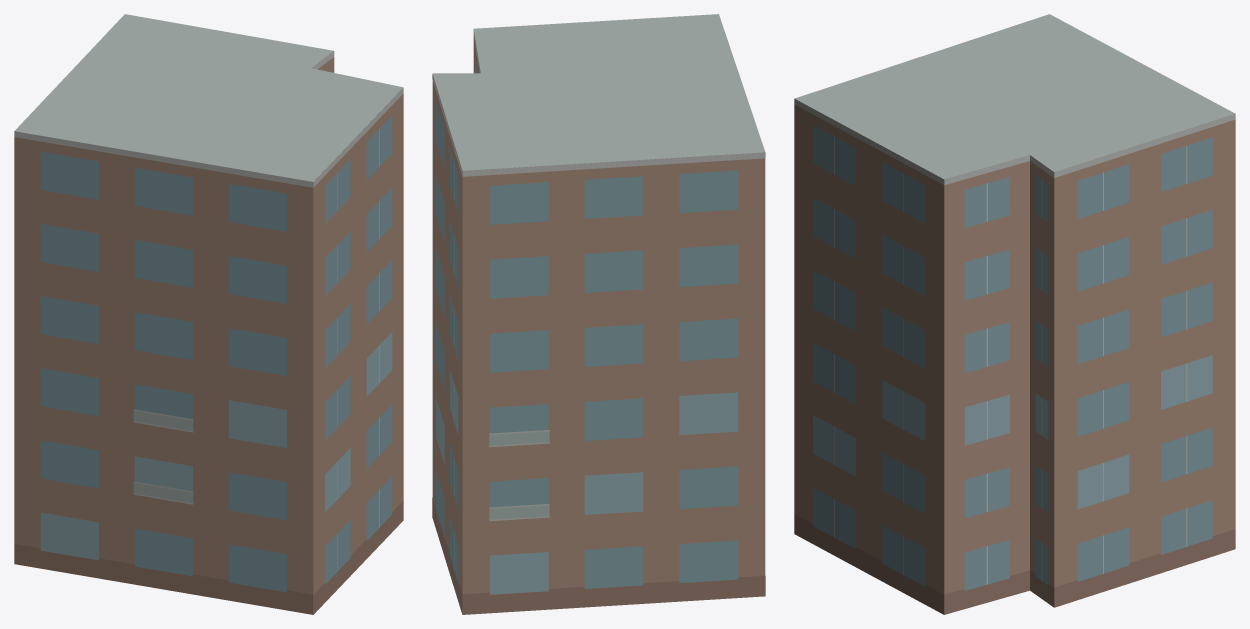
Rendered from survey-upis-32688121.glb.
The picture shows the model from 3 angles, left to right: view 1: azimuth 30°, elevation 25°; view 2: azimuth 150°, elevation 25°; view 3: azimuth 270°, elevation 25°; orthographic projection. The views are drawn at different scales.
Parts seen in each view (by area): view 1: survey-upis-32688121.tmp; view 2: survey-upis-32688121.tmp; view 3: survey-upis-32688121.tmp.
Boxes of the visible parts, x1,y1,x2,y2 form: survey-upis-32688121.tmp: (14,14,403,614); survey-upis-32688121.tmp: (432,14,765,614); survey-upis-32688121.tmp: (794,14,1235,614).
Size of the model in its own units: 14.83 by 18.2 by 16.72.
